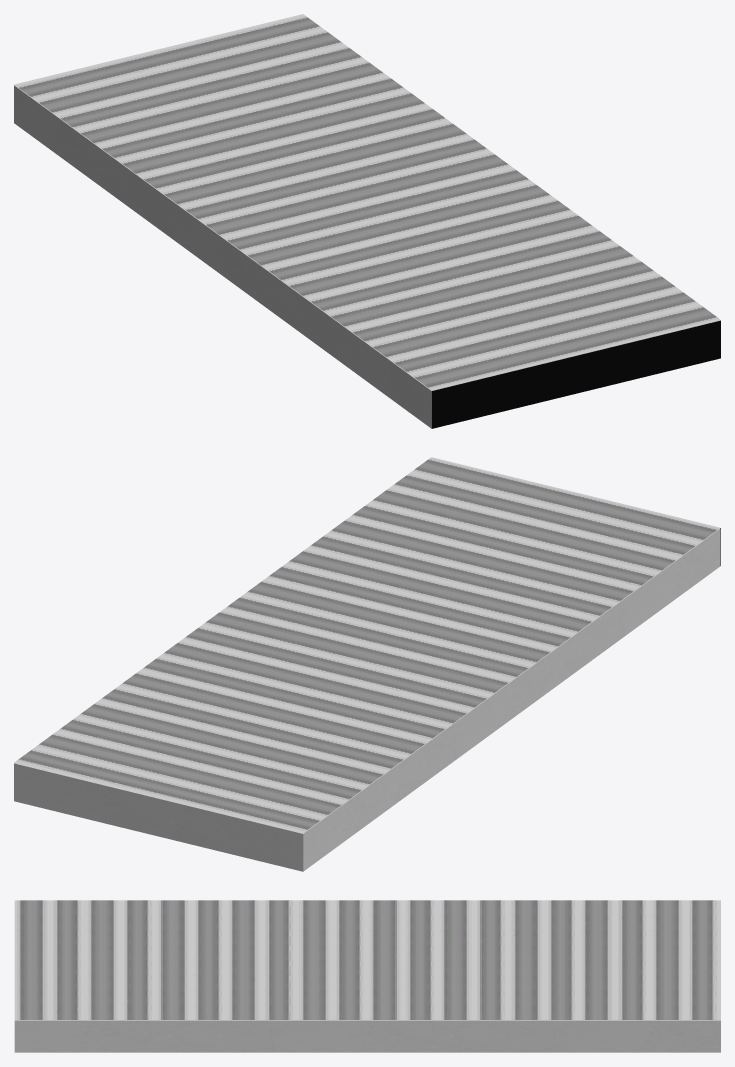
File: conveyorbelt.obj
3 renders of one model, top to bottom at view 1: azimuth 30°, elevation 25°; view 2: azimuth 150°, elevation 25°; view 3: azimuth 270°, elevation 25°, orthographic. The views are drawn at different scales.
Visible parts, largest first — view 1: Conveyorbelt2, Conveyorbelt1, Conveyorbelt3; view 2: Conveyorbelt2, Conveyorbelt1; view 3: Conveyorbelt2, Conveyorbelt1.
Boxes of the visible parts, left/top/right/bottom form: Conveyorbelt2: left=14, top=14, right=720, bottom=389; Conveyorbelt1: left=14, top=85, right=720, bottom=428; Conveyorbelt3: left=431, top=320, right=720, bottom=428; Conveyorbelt2: left=14, top=457, right=719, bottom=832; Conveyorbelt1: left=14, top=528, right=720, bottom=871; Conveyorbelt2: left=14, top=900, right=720, bottom=1019; Conveyorbelt1: left=14, top=1020, right=720, bottom=1052.
Size of the model in its own units: 8 by 1.02 by 20.02.
Materials: 3 (3 with a texture image).
